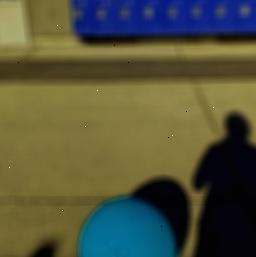algae: (75, 194, 177, 257)
